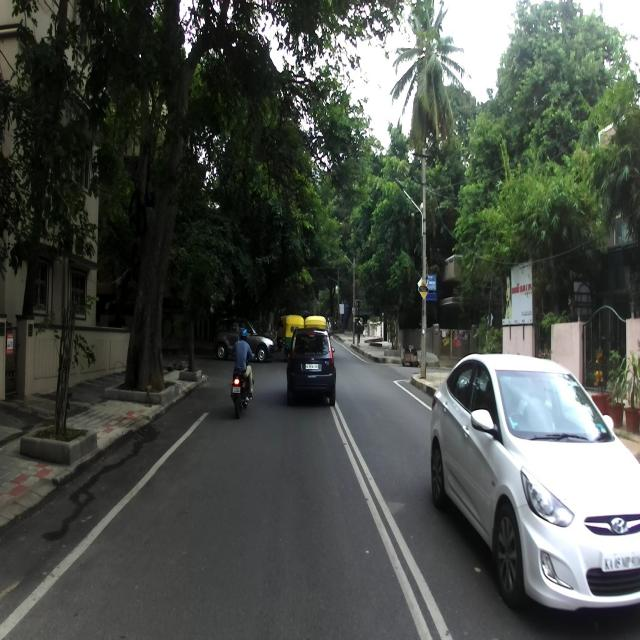Car_Ford: (286, 324, 336, 405)
Car_Hyundai: (430, 351, 640, 629)
motorcycle_bajaj: (228, 353, 258, 419)
